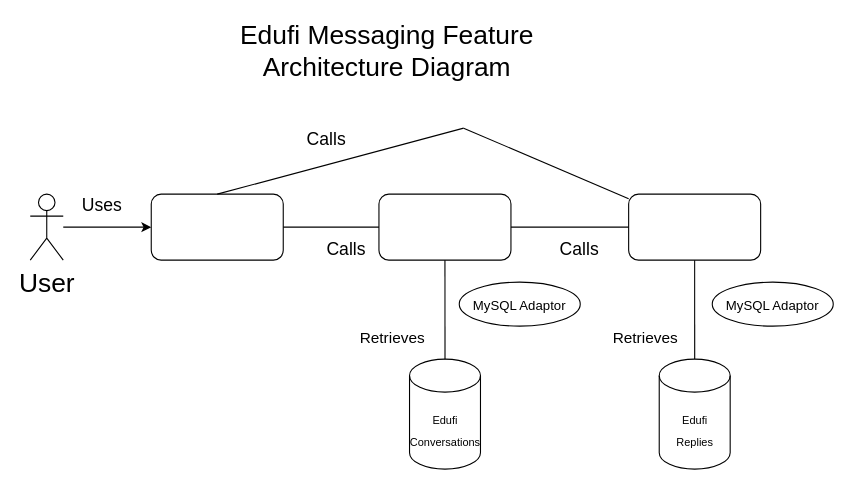
Image size: 853x488. Some labels were removed from this diagram. Here are the shapes that lost their labels. From the top down, the centre of each, then its label:
At point 216,226: "Messaging UI".
At point 444,226: "Conversation API".
At point 694,226: "RepliesAPI".
